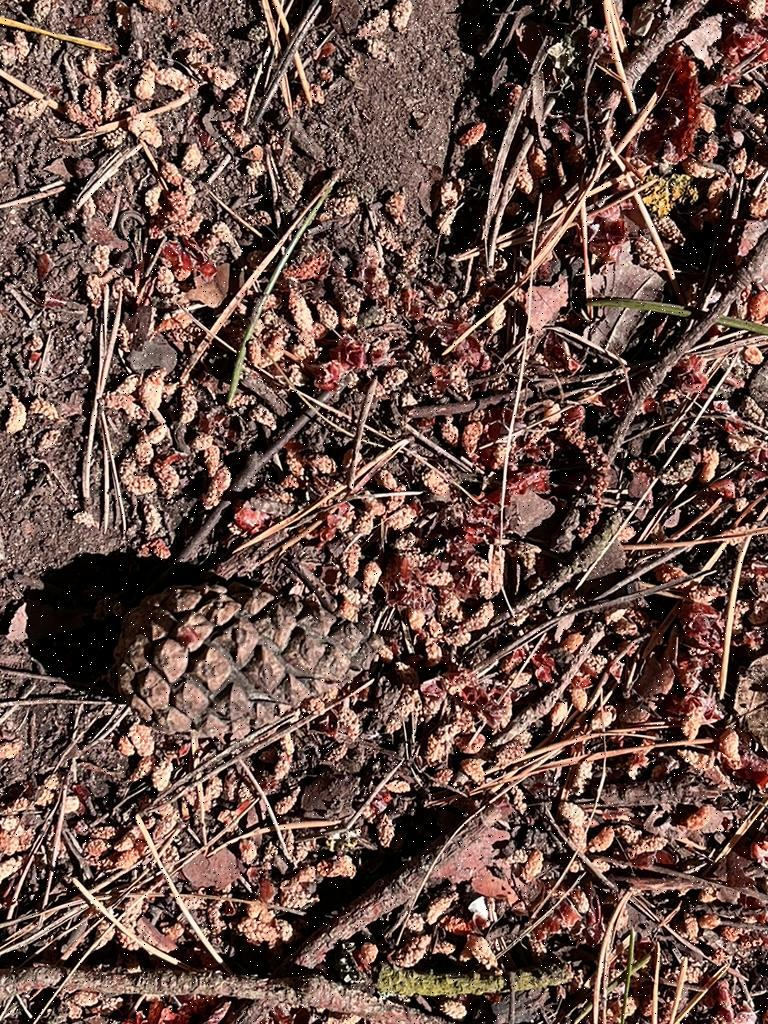pine: (106, 573, 378, 746)
